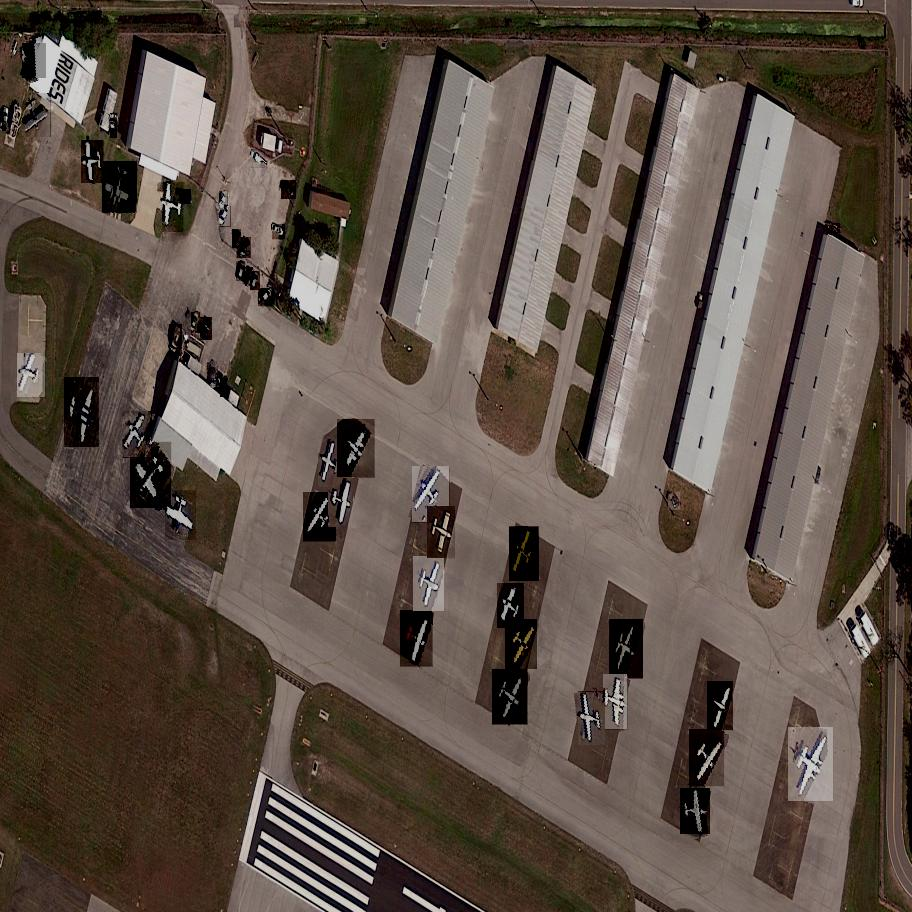large-vehicle: (168, 325, 183, 356), (210, 361, 217, 385)
plane: (122, 442, 183, 508), (787, 727, 839, 802), (63, 377, 104, 447), (684, 730, 731, 787), (333, 419, 378, 478), (408, 467, 455, 523), (489, 670, 533, 725), (608, 619, 647, 678), (399, 610, 436, 667), (300, 492, 340, 542), (101, 162, 140, 213), (412, 557, 448, 612), (13, 94, 59, 137), (503, 620, 542, 669), (507, 527, 542, 581), (119, 411, 158, 458), (164, 490, 200, 540), (426, 507, 459, 559), (327, 475, 357, 527), (681, 785, 711, 837), (705, 681, 736, 731), (579, 690, 606, 747), (495, 584, 527, 629), (17, 354, 48, 399), (603, 674, 627, 729), (317, 440, 345, 487), (162, 182, 185, 232), (81, 141, 106, 184), (23, 43, 45, 78)
ship: (825, 224, 840, 233)
small-vehicle: (278, 180, 300, 199), (256, 289, 278, 308), (235, 237, 253, 258), (248, 150, 268, 168), (199, 317, 214, 340), (666, 492, 682, 510), (270, 224, 288, 240), (219, 207, 233, 227), (191, 312, 202, 333), (179, 189, 193, 205), (236, 261, 247, 281), (242, 267, 254, 285), (250, 272, 261, 291), (219, 191, 230, 210), (111, 113, 118, 138), (220, 378, 228, 397), (233, 229, 241, 248), (2, 108, 6, 131), (217, 373, 222, 390)
